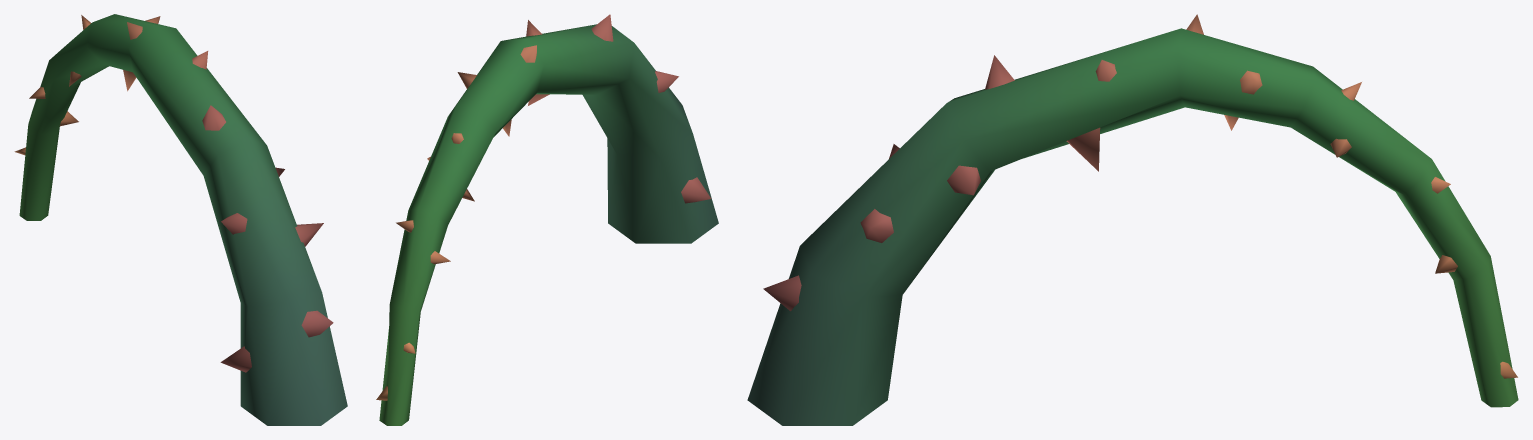
Rendered from plant_02.fbx.
3 renders of one model, left to right at view 1: azimuth 30°, elevation 25°; view 2: azimuth 150°, elevation 25°; view 3: azimuth 270°, elevation 25°, orthographic. The views are drawn at different scales.
Visible parts, largest first — view 1: plant_02; view 2: plant_02; view 3: plant_02.
Boxes of the visible parts, box(x1,y1,x2,y2) form: plant_02: box(14, 14, 347, 425); plant_02: box(376, 14, 718, 425); plant_02: box(747, 14, 1518, 425).
Size of the model in its own units: 1.2 by 2.94 by 5.52.
